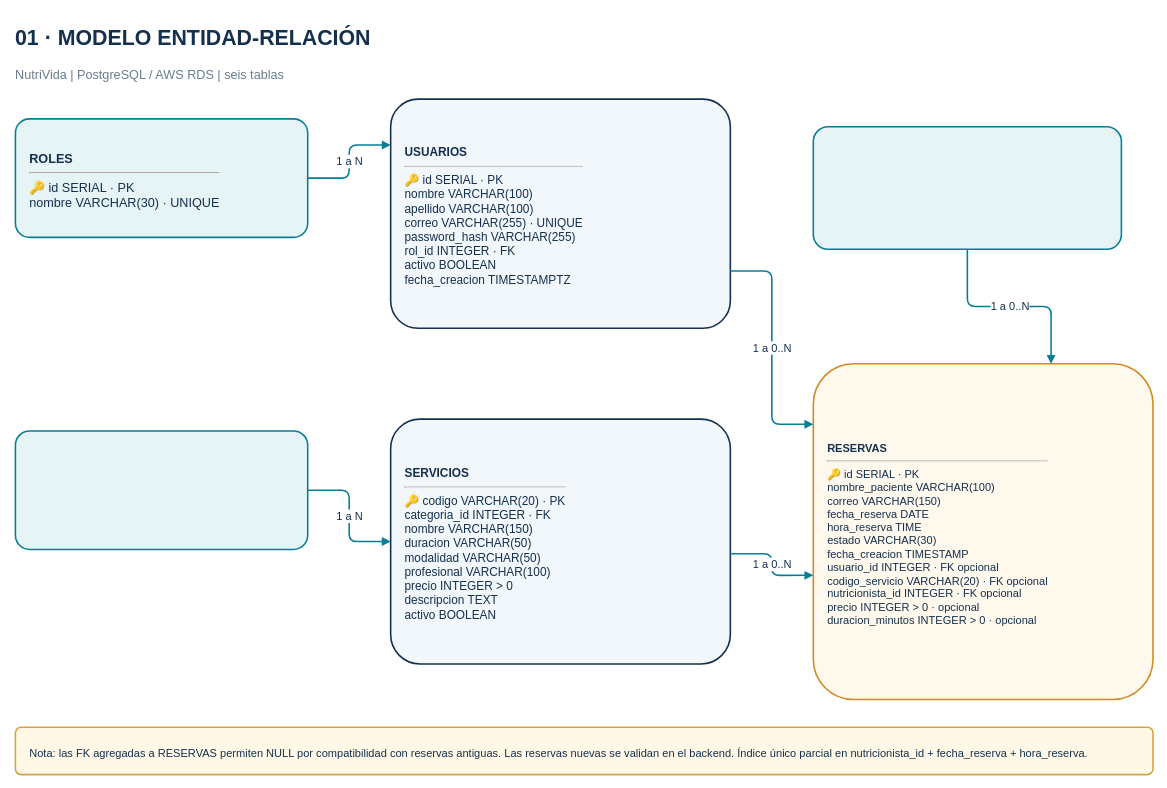
The diagram is 1167 pixels wide and 788 high, and some of its shapes have lost their labels. The shapes that lost their labels are listed below. From the top down, each one's centre as x and y in pixels, then its label:
At point 967,188: "NUTRICIONISTAS 🔑 id SERIAL · PK nombre VARCHAR(150) · UNIQUE activo BOOLEAN".
At point 161,490: "CATEGORÍAS 🔑 id SERIAL · PK nombre VARCHAR(100) · UNIQUE".
